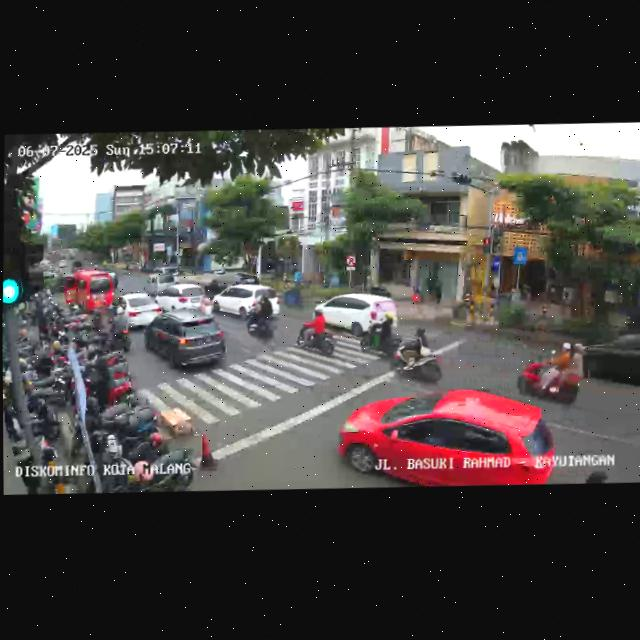car: (338, 382, 558, 491), (143, 309, 229, 374), (313, 289, 396, 343), (582, 326, 640, 399), (211, 281, 277, 322), (62, 268, 114, 318), (153, 279, 211, 314), (113, 290, 162, 328), (143, 272, 176, 294)
motorcycle: (518, 342, 583, 407), (391, 325, 445, 388), (295, 305, 335, 364), (358, 314, 404, 362), (245, 292, 280, 343), (113, 305, 132, 351)
